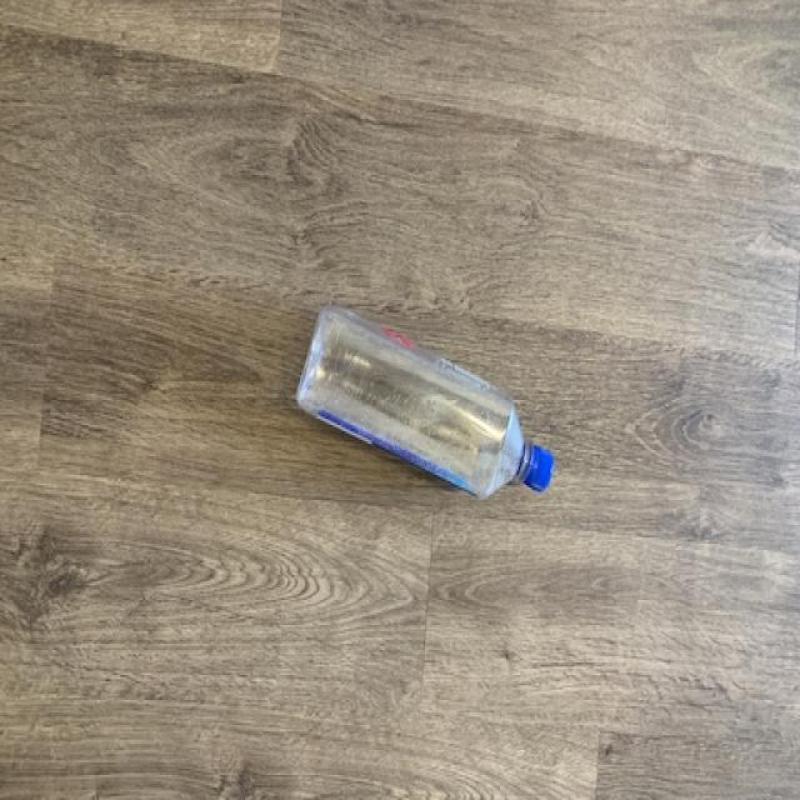botella: (295, 303, 555, 498)
